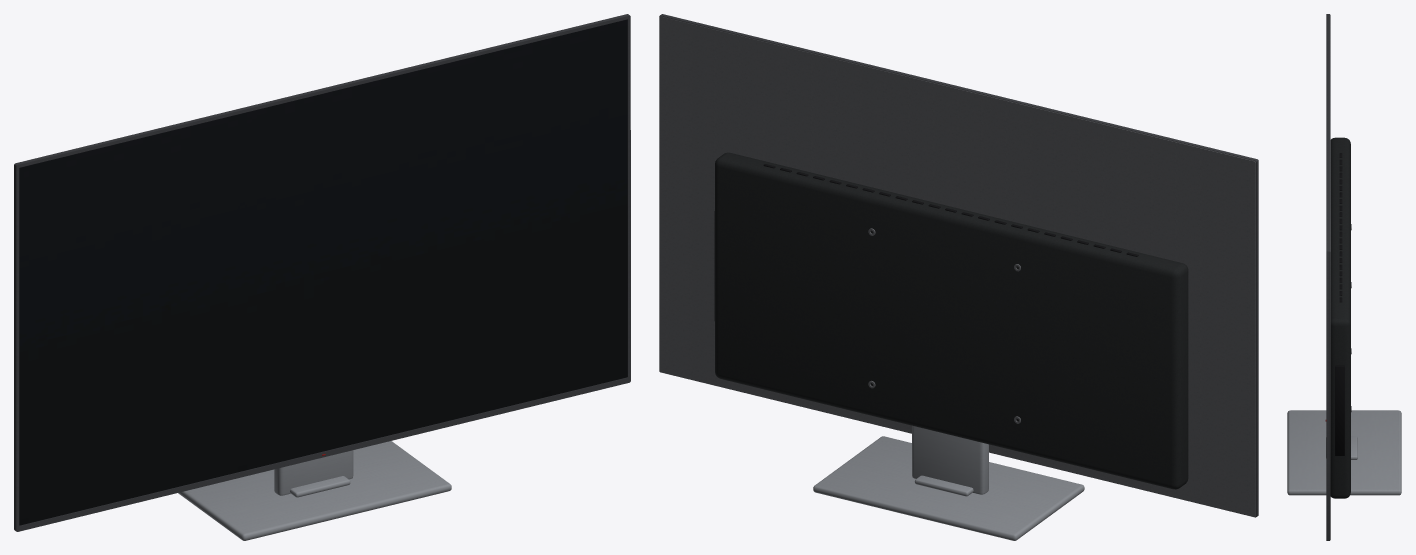
3 renders of one model, left to right at view 1: azimuth 30°, elevation 25°; view 2: azimuth 150°, elevation 25°; view 3: azimuth 270°, elevation 25°, orthographic. The views are drawn at different scales.
Visible parts, largest first — view 1: Screen, Pedestal stand, Bezel frame; view 2: Rear housing, VESA inserts, Pedestal stand, Bezel frame, Vents and connector panel; view 3: Pedestal stand, Rear housing, Bezel frame, Vents and connector panel, VESA inserts.
Boxes of the visible parts, x1,y1,x2,y2 form: Screen: [19, 19, 627, 525]; Pedestal stand: [178, 441, 451, 540]; Bezel frame: [14, 14, 630, 531]; Rear housing: [715, 152, 1188, 489]; VESA inserts: [659, 16, 1255, 517]; Pedestal stand: [813, 425, 1084, 540]; Bezel frame: [659, 14, 1258, 517]; Vents and connector panel: [714, 164, 1138, 320]; Pedestal stand: [1287, 410, 1401, 495]; Rear housing: [1330, 137, 1350, 498]; Bezel frame: [1326, 14, 1329, 540]; Vents and connector panel: [1335, 153, 1344, 455]; VESA inserts: [1330, 14, 1351, 540].
Bounding box in the file's own units: 1.23 × 0.7824 × 0.25.
7 materials, 5 textured.
